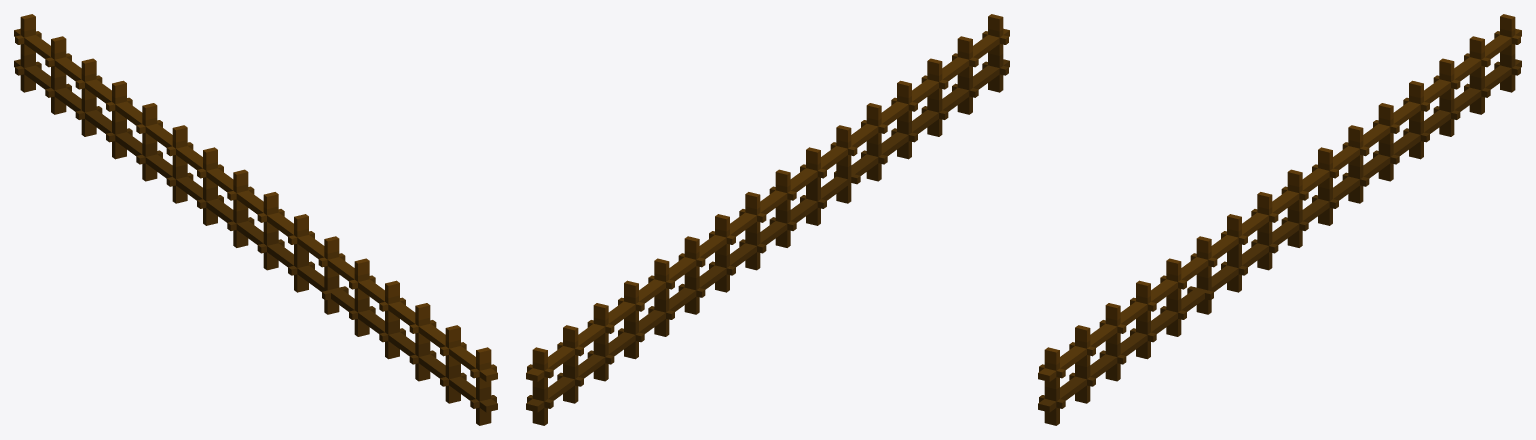
3 views of the same model, side by side, from view 1: azimuth 30°, elevation 25°; view 2: azimuth 150°, elevation 25°; view 3: azimuth 330°, elevation 25° (orthographic).
Parts seen in each view (by area): view 1: VOX; view 2: VOX; view 3: VOX.
Boxes of the visible parts, <box> form: VOX: <box>14,14,497,425</box>; VOX: <box>526,14,1009,425</box>; VOX: <box>1038,14,1521,425</box>.
Size of the model in its own units: 0.004 by 0.012 by 0.14.
